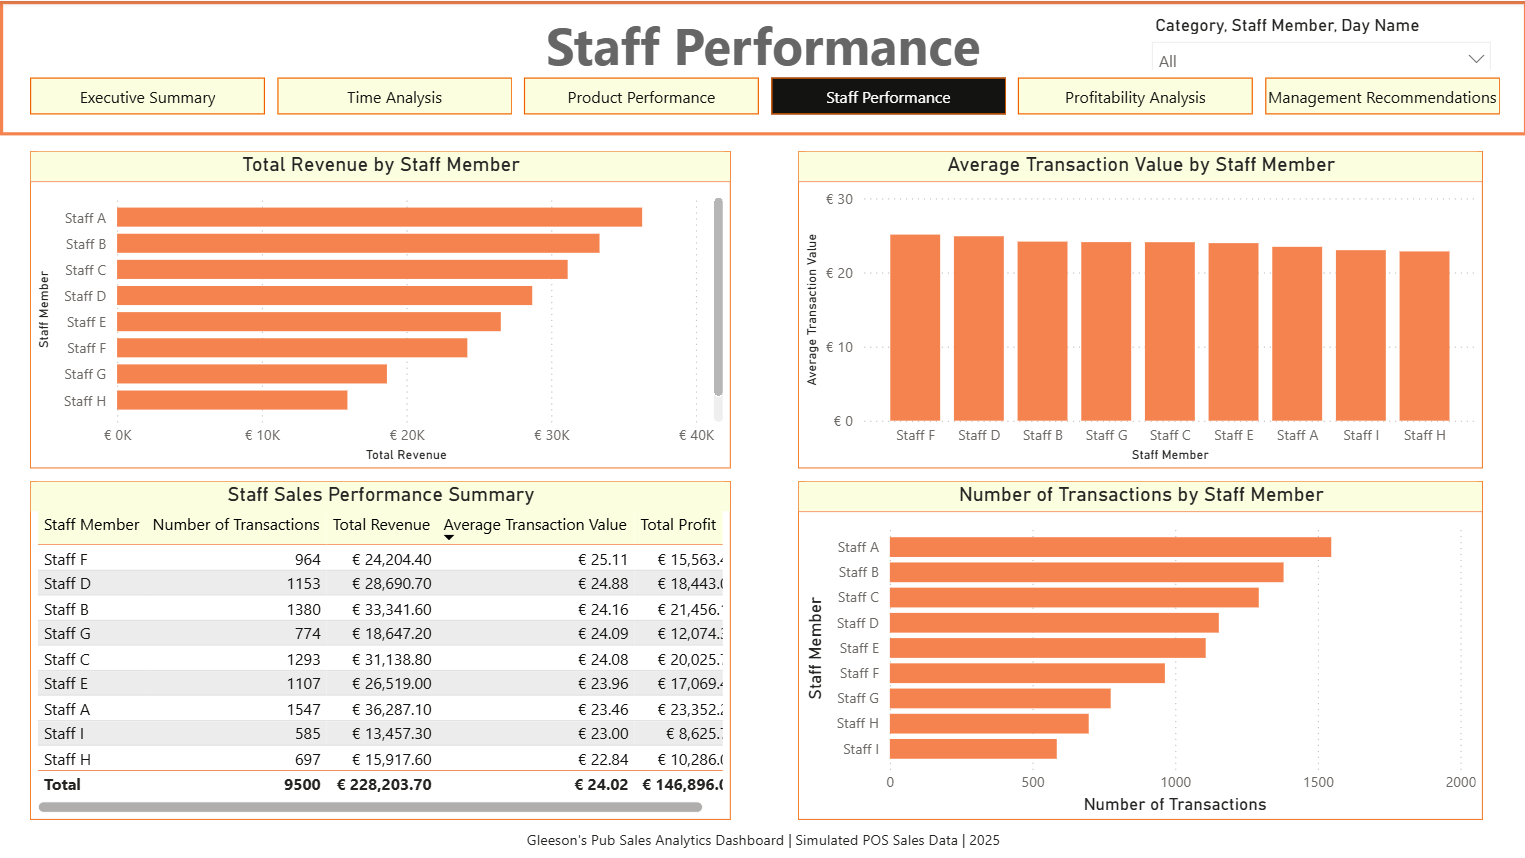

What the dashboard file says about the page in this screenshot:
{"tool":"powerbi","page":{"name":"Staff Performance","canvas":[1280,720],"ordinal":3},"visuals":[{"type":"barChart","fields":{"Y":["pub_sales_data.Total Revenue"],"Category":["pub_sales_data.Staff Member"]},"box":[25.7,125.7,587.1,265.7],"z":0},{"type":"barChart","fields":{"Y":["pub_sales_data.Number of Transactions"],"Category":["pub_sales_data.Staff Member"]},"box":[668.6,402.9,574.3,284.3],"z":1000},{"type":"columnChart","fields":{"Category":["pub_sales_data.Staff Member"],"Y":["pub_sales_data.Average Transaction Value"]},"box":[668.6,125.7,574.3,265.7],"z":2000},{"type":"tableEx","title":"Staff Sales Performance Summary","fields":{"Values":["pub_sales_data.Staff Member","pub_sales_data.Number of Transactions","pub_sales_data.Total Revenue","pub_sales_data.Average Transaction Value","pub_sales_data.Total Profit"]},"box":[25.7,402.9,587.1,284.3],"z":3000},{"type":"textbox","box":[0,0,1280,112.9],"z":4000},{"type":"slicer","fields":{"Values":["pub_sales_data.Category","pub_sales_data.Staff Member","pub_sales_data.Day Name"]},"box":[955.7,5.7,304.3,51.4],"z":5000},{"type":"textbox","box":[0,687.1,1280,32.9],"z":6000},{"type":"pageNavigator","box":[25.7,64.3,1234.3,31.4],"z":7000}]}

Visuals, with their boxes in screenshot pixels (x1, y1, x2, y2), scaled from the page's 1280x720 canvas onto the 1525x858 screenshot:
barChart - pub_sales_data.Total Revenue x pub_sales_data.Staff Member: 31,150,730,466
barChart - pub_sales_data.Number of Transactions x pub_sales_data.Staff Member: 797,480,1481,819
columnChart - pub_sales_data.Staff Member x pub_sales_data.Average Transaction Value: 797,150,1481,466
"Staff Sales Performance Summary" tableEx: 31,480,730,819
textbox: 0,0,1524,135
slicer - pub_sales_data.Category x pub_sales_data.Staff Member: 1139,7,1501,68
textbox: 0,819,1524,857
pageNavigator: 31,77,1501,114
